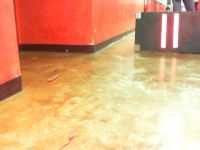switch: (172, 13, 180, 49), (160, 14, 167, 48)
